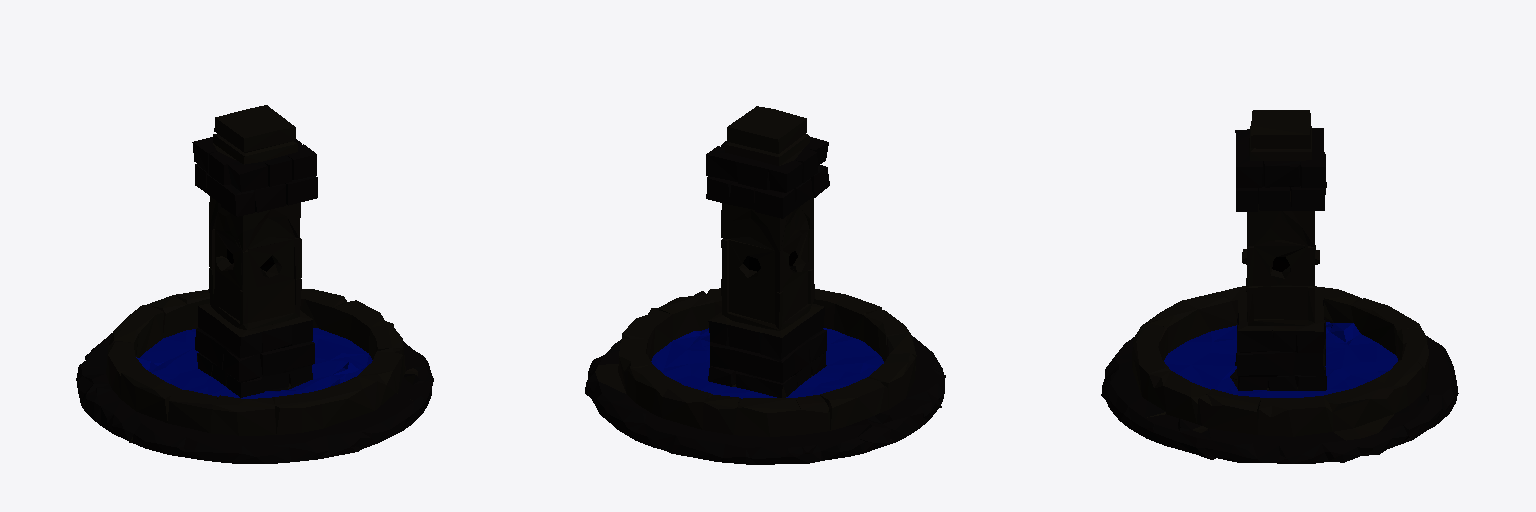
Rendered from fountain.obj.
The picture shows the model from 3 angles: view 1: azimuth 30°, elevation 25°; view 2: azimuth 150°, elevation 25°; view 3: azimuth 270°, elevation 25°; orthographic projection.
Visible parts, largest first — view 1: fountain; view 2: fountain; view 3: fountain.
Part boxes in pixels (bbox=[...]): fountain: bbox=[76, 105, 433, 463]; fountain: bbox=[585, 106, 945, 464]; fountain: bbox=[1101, 110, 1458, 463].
Size of the model in its own units: 4.52 by 3.76 by 4.53.